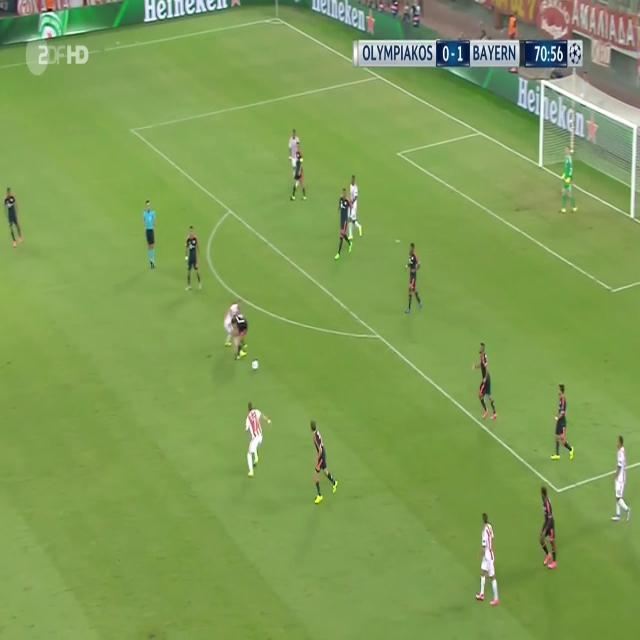Ball: (249, 355, 261, 373)
Goalkeeper: (558, 141, 581, 219)
Player: (471, 506, 502, 612), (309, 417, 339, 510), (470, 338, 499, 423), (244, 398, 274, 480), (610, 432, 635, 524), (537, 483, 561, 576), (549, 382, 575, 467), (181, 221, 205, 294), (2, 184, 27, 250), (405, 240, 425, 316), (334, 187, 354, 259), (346, 172, 366, 244), (222, 298, 243, 347), (291, 140, 307, 203), (229, 314, 249, 362), (288, 128, 298, 172)
Referee: (141, 200, 160, 273)
